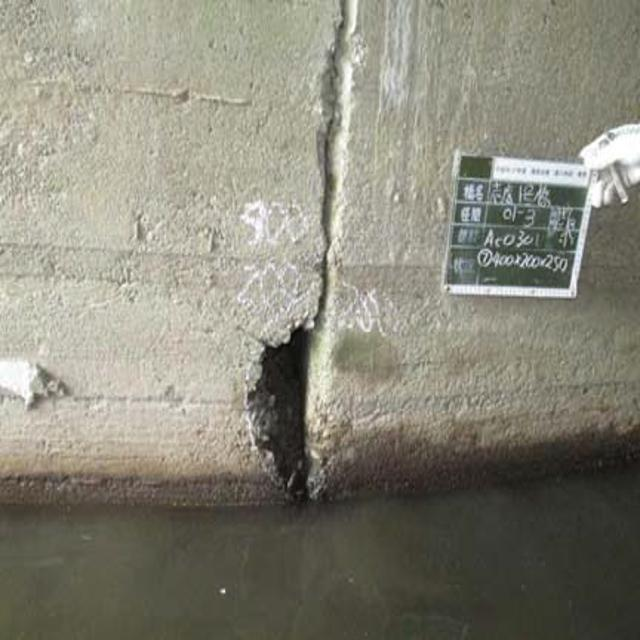crack: (306, 12, 364, 274)
spalling: (247, 290, 349, 499)
